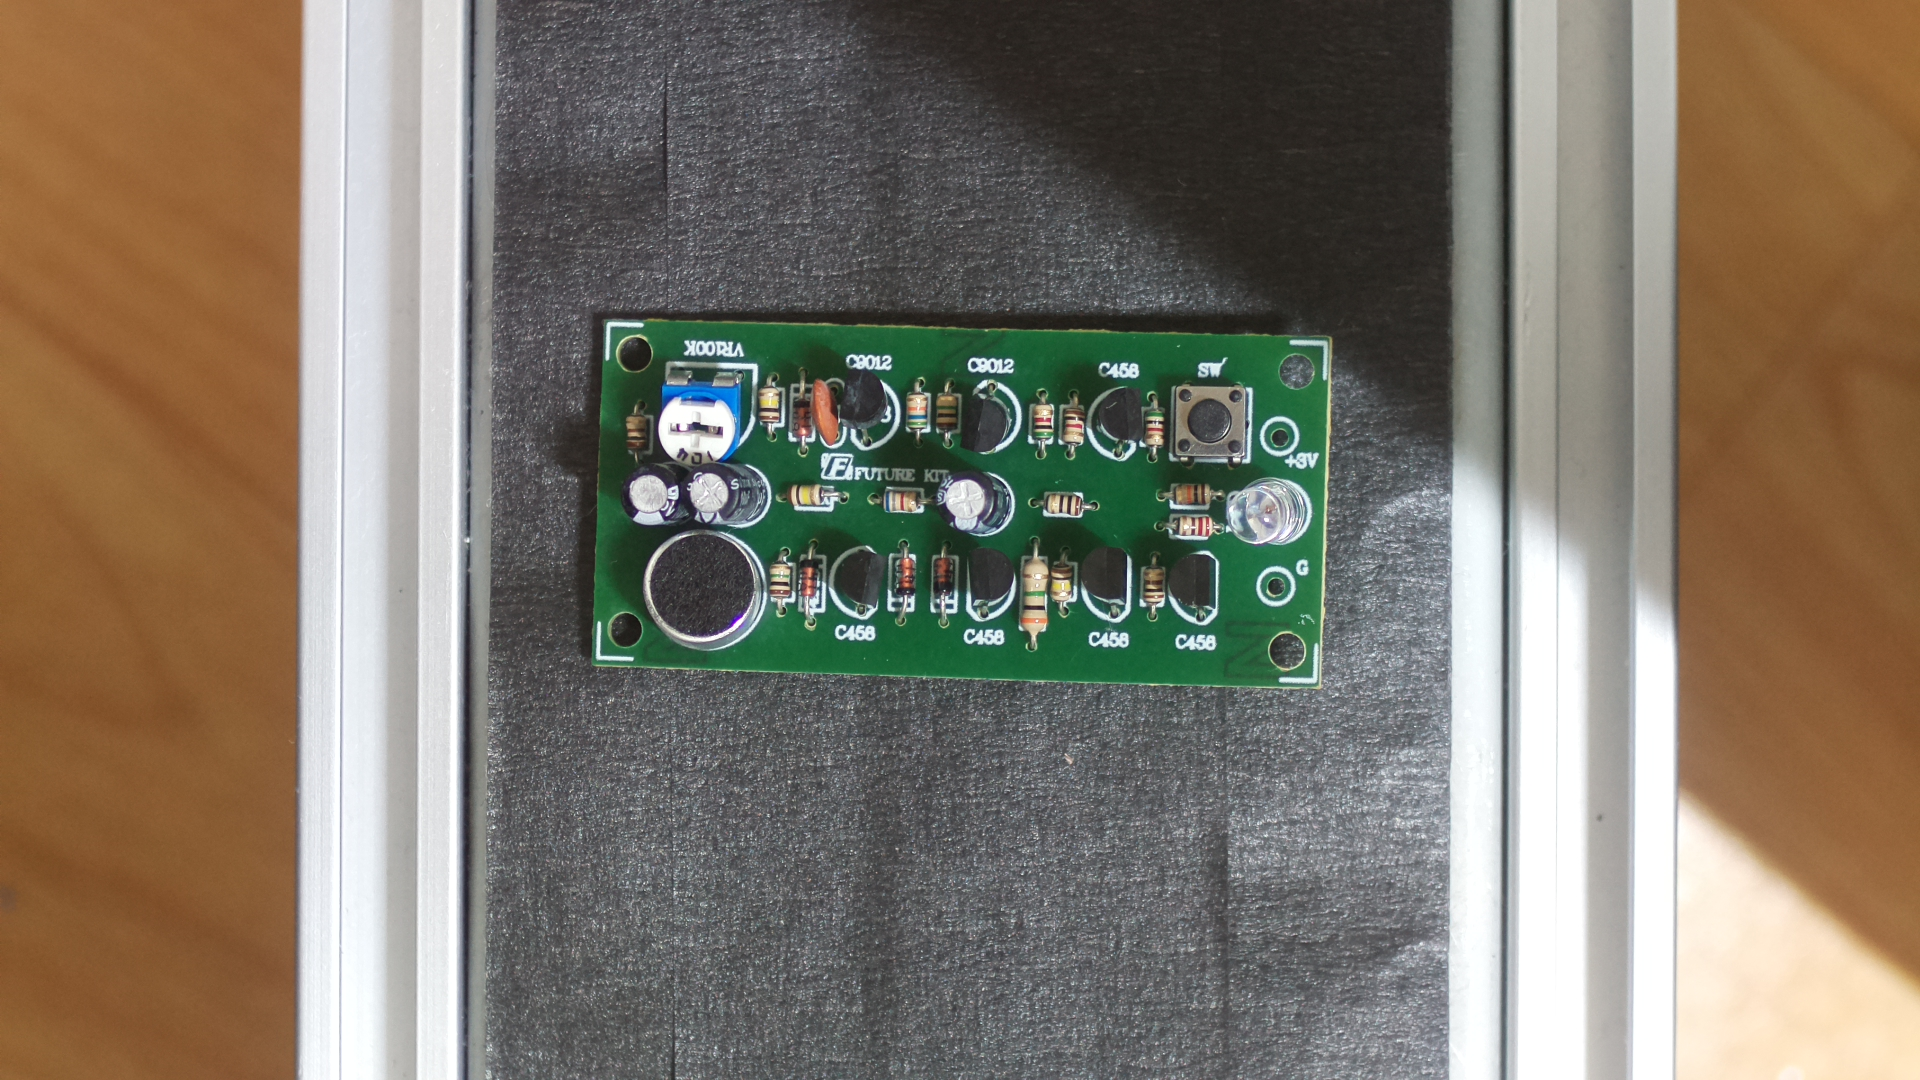A_Normal: (588, 306, 1333, 696)
